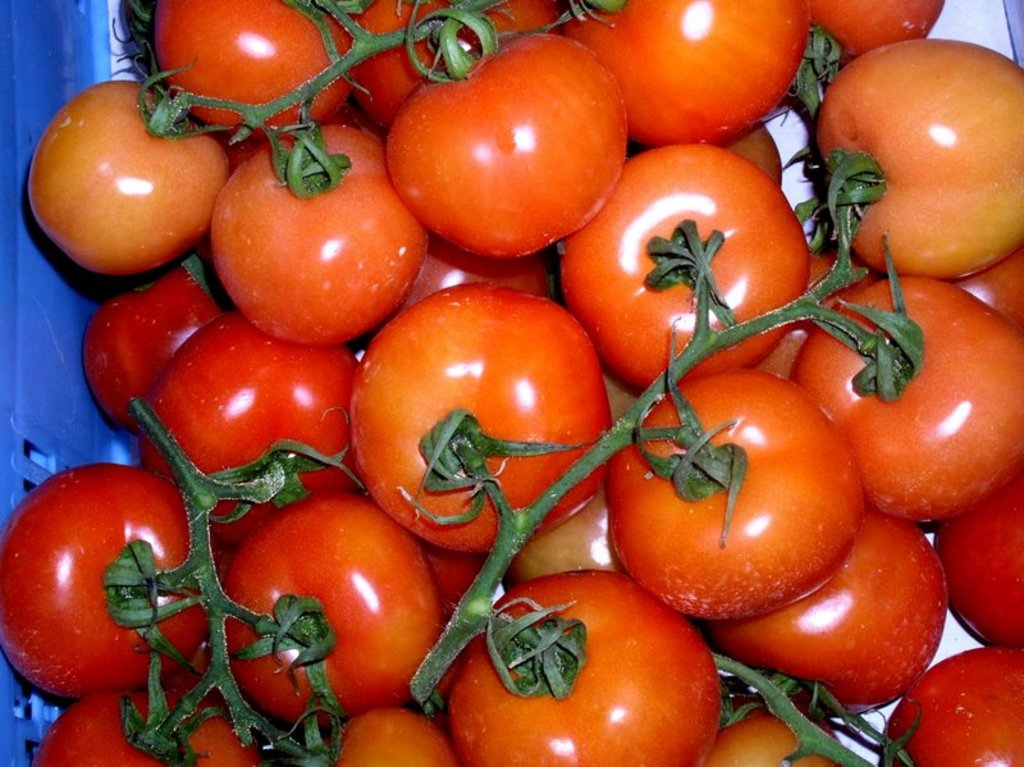Tomato: (605, 327, 864, 614), (352, 279, 614, 555), (785, 238, 1022, 524), (560, 147, 814, 404), (384, 1, 631, 254), (805, 34, 1022, 284), (211, 489, 435, 726), (455, 571, 719, 765), (135, 318, 360, 541), (0, 463, 212, 699), (212, 125, 435, 348), (701, 512, 944, 705), (30, 79, 230, 281), (561, 0, 810, 145), (346, 0, 565, 128), (151, 0, 350, 133), (84, 257, 230, 423), (29, 662, 261, 765), (887, 653, 1022, 765), (935, 485, 1022, 650), (808, 0, 953, 83), (407, 227, 551, 309), (273, 709, 458, 765), (700, 715, 844, 765), (958, 252, 1022, 322)
